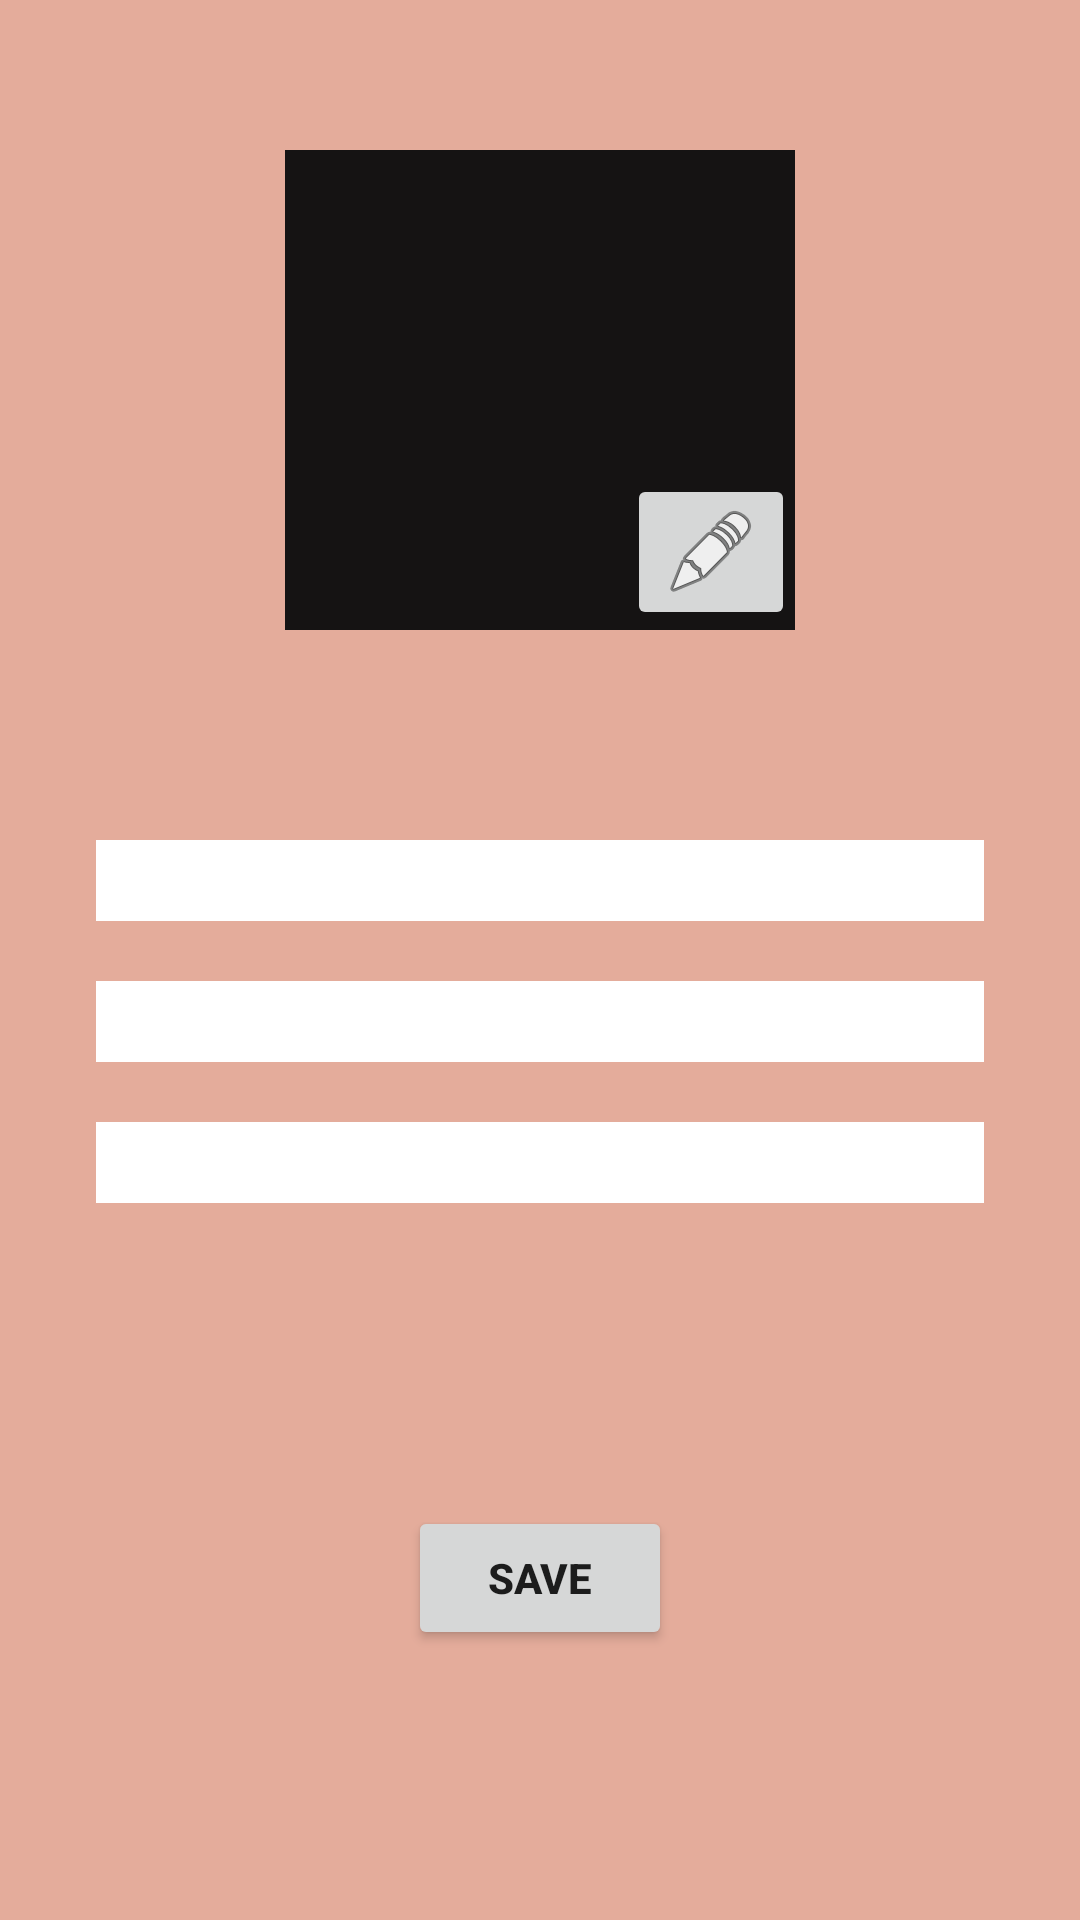

Icons on this 1080px×1920px Android screen, each with its box as (x1,y1,x2,y2):
edit: (639,492,783,612)
